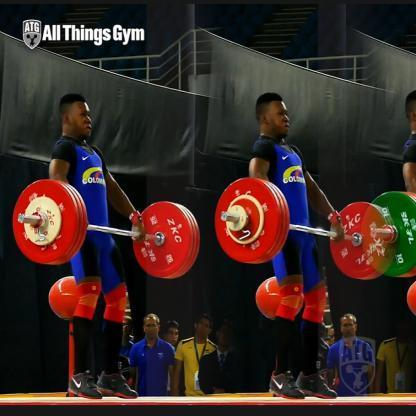barbell: (11, 176, 202, 281), (214, 176, 390, 280), (369, 190, 416, 280)
